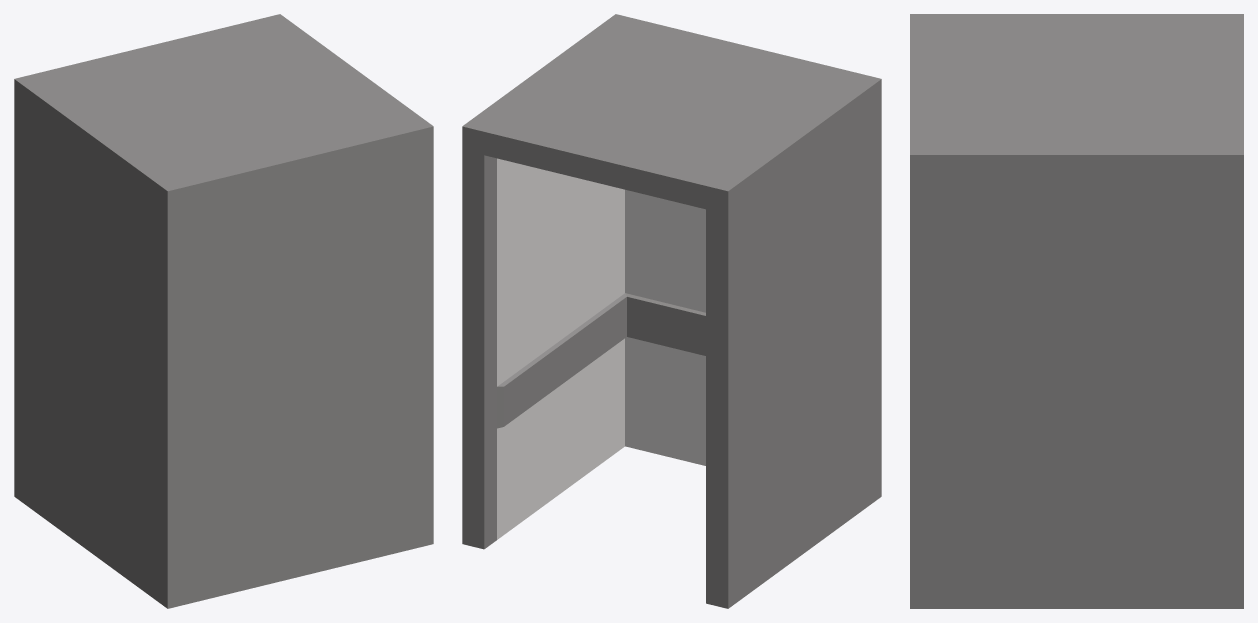
The model's file is Elevator Box.fbx.
The picture shows the model from 3 angles, left to right: view 1: azimuth 30°, elevation 25°; view 2: azimuth 150°, elevation 25°; view 3: azimuth 270°, elevation 25°; orthographic projection. The views are drawn at different scales.
Parts seen in each view (by area): view 1: Elevator Box; view 2: Elevator Box; view 3: Elevator Box.
Boxes of the visible parts, x1,y1,x2,y2 form: Elevator Box: (14,14,433,608); Elevator Box: (462,14,881,608); Elevator Box: (910,14,1243,608).
Bounding box in the file's own units: 120 × 180 × 120.
